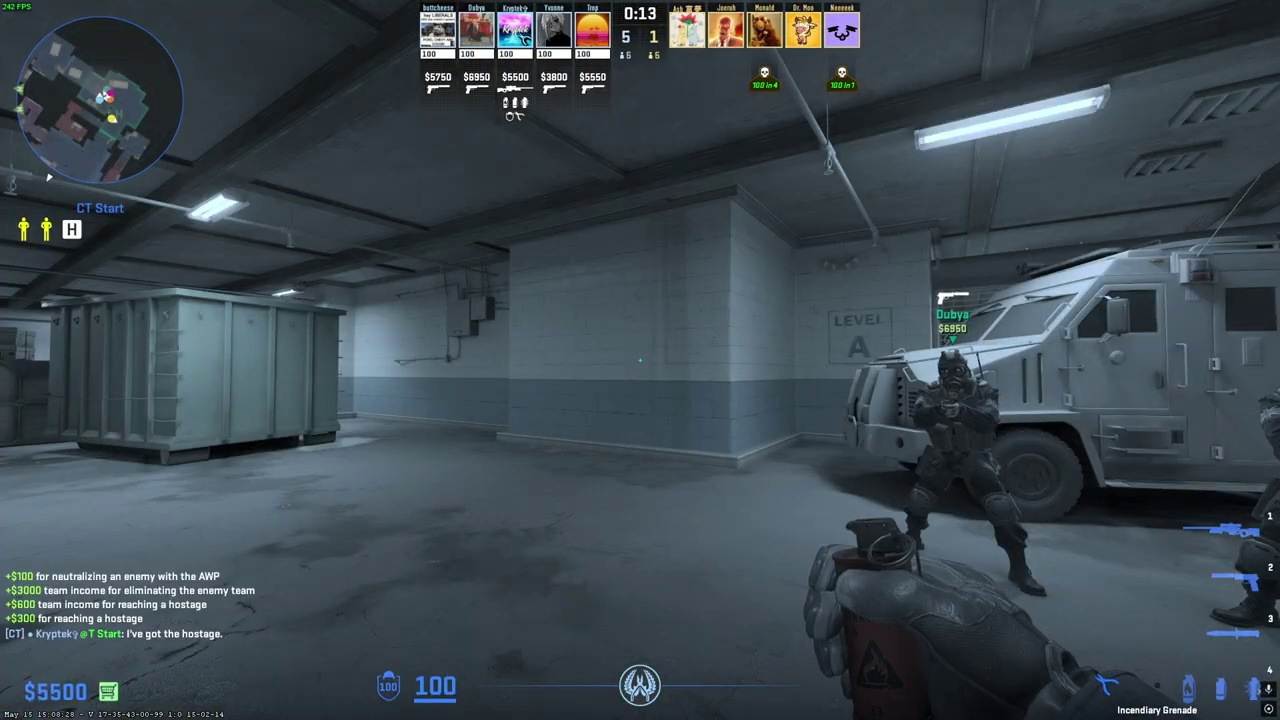CT: (903, 349, 1039, 597), (1225, 356, 1280, 629)
